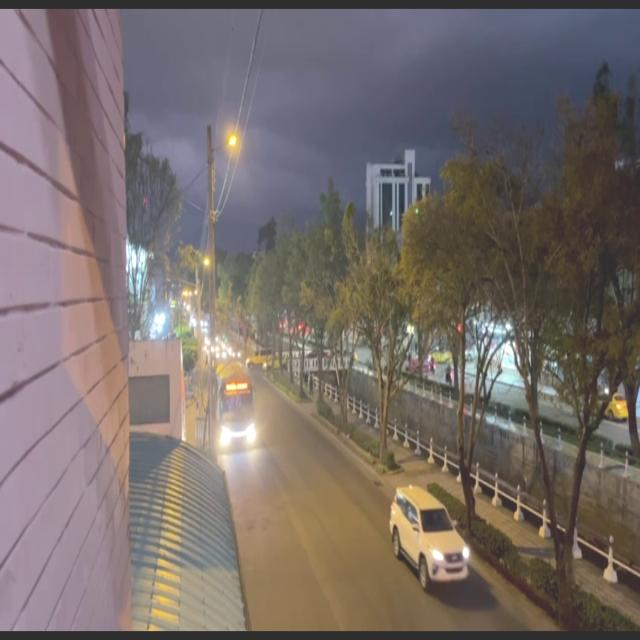BUS: (216, 370, 256, 448)
SUV: (393, 493, 468, 590)
